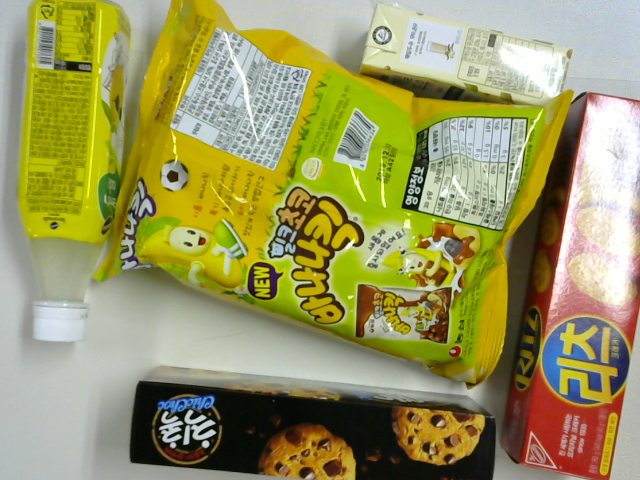99.89_Soymilk: (359, 2, 575, 104)
Banana_Kick: (88, 1, 575, 390)
Chicchok_Original_2400: (128, 364, 497, 480)
Ritz_Cracker: (499, 92, 640, 479)
Sunkist_Lemonaid_Pet: (15, 1, 130, 344)
